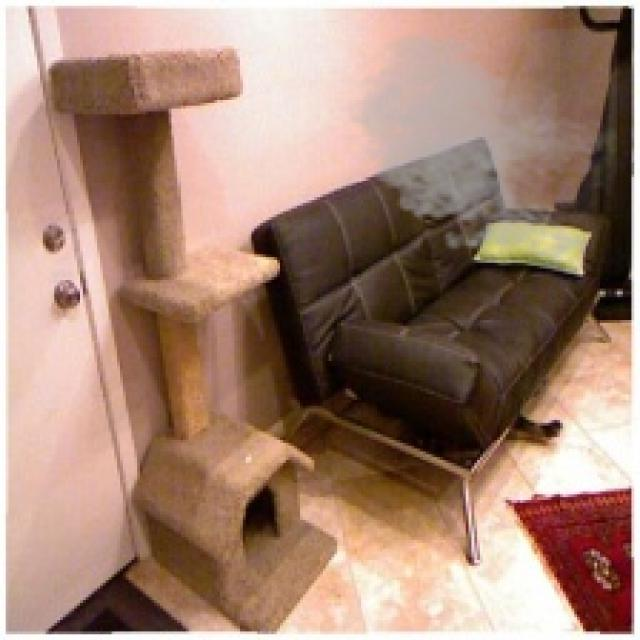smoke: (337, 26, 617, 266)
